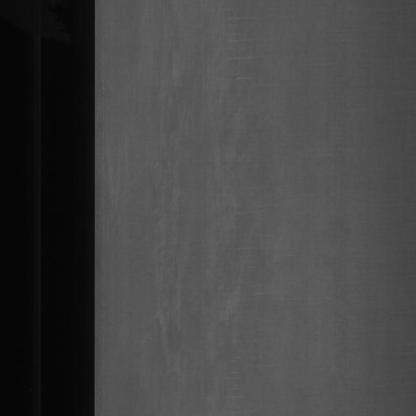waist_folding: (228, 18, 272, 350)
